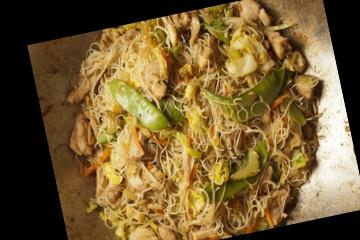pancit bihon: (79, 0, 317, 239)
